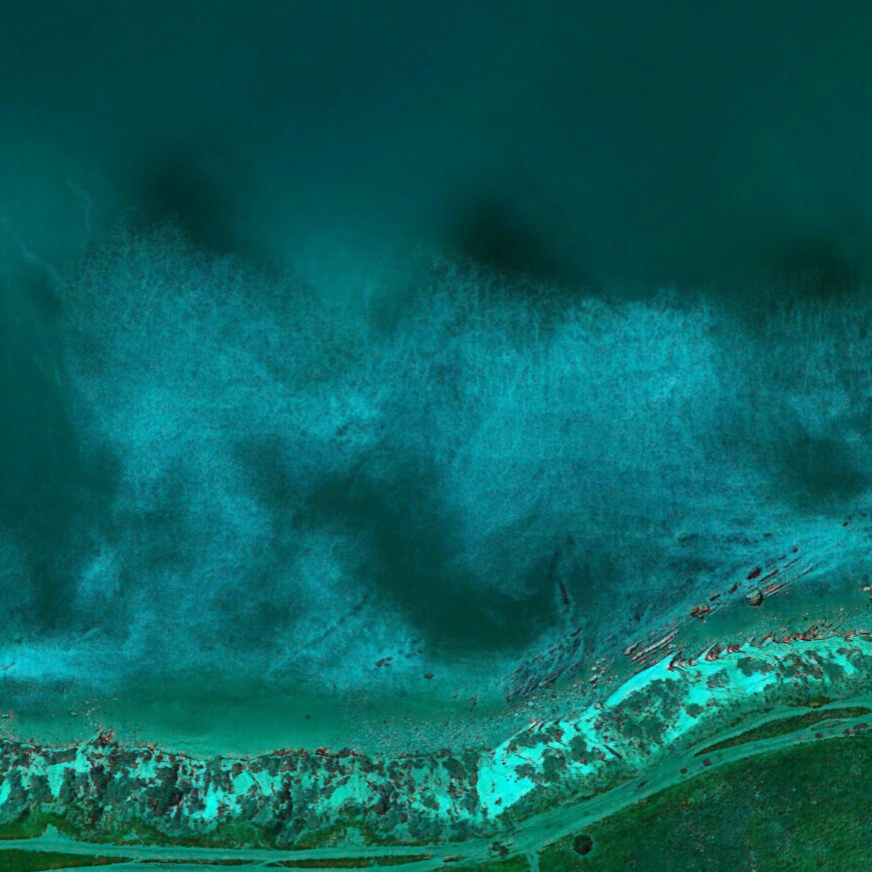rip_current: (217, 323, 594, 663)
